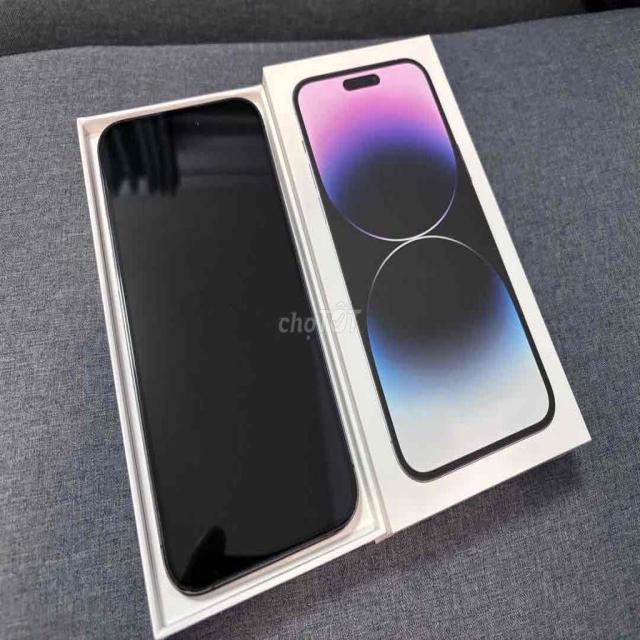gen_14: (90, 87, 363, 593)
